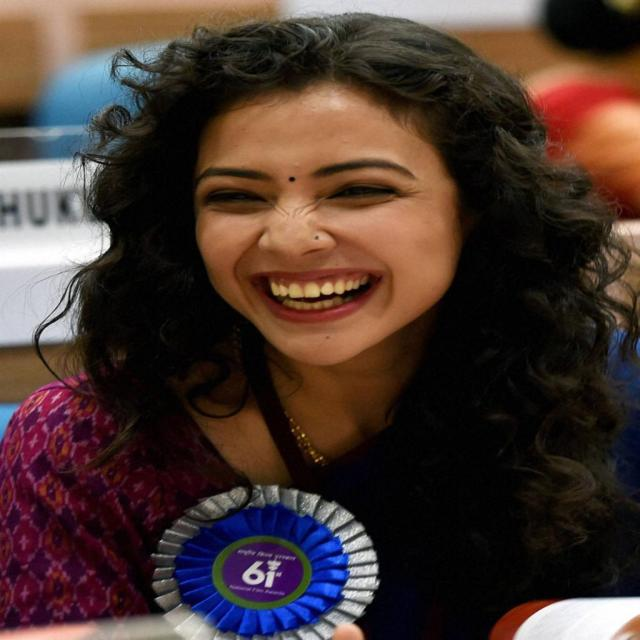Face: (189, 95, 452, 363)
